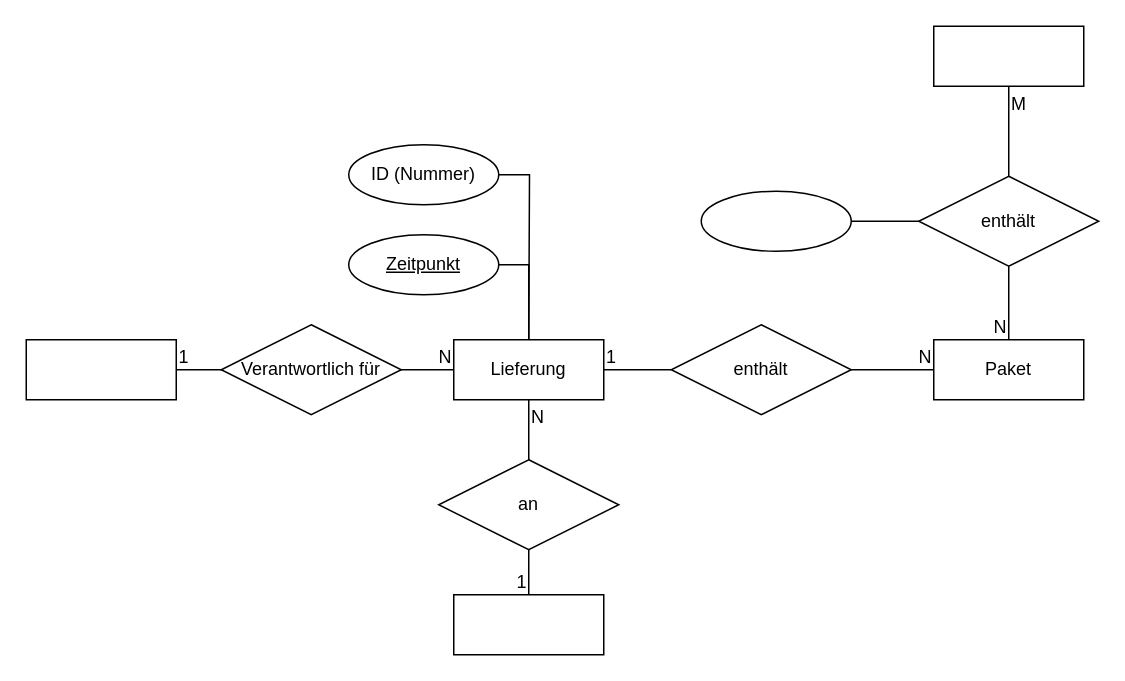
This 1125x681 diagram has some shape labels left out. Here are the shapes that lost their labels. From the top down, the box of each, then its label:
(932, 25, 1084, 86): Arzneimittel
(700, 190, 851, 251): Menge
(25, 338, 176, 400): Zusteller
(452, 593, 604, 655): Kunde
